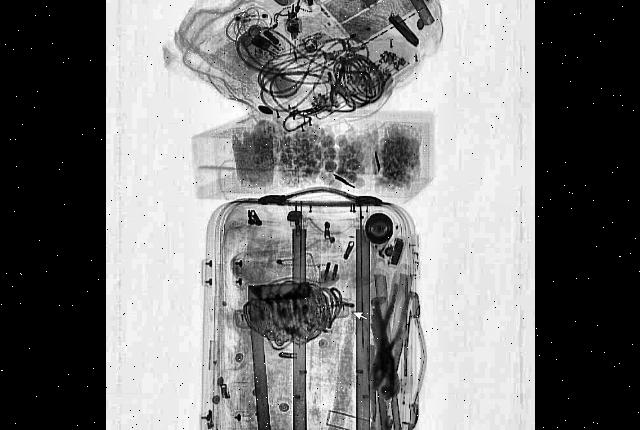Pliers: (365, 278, 411, 393)
